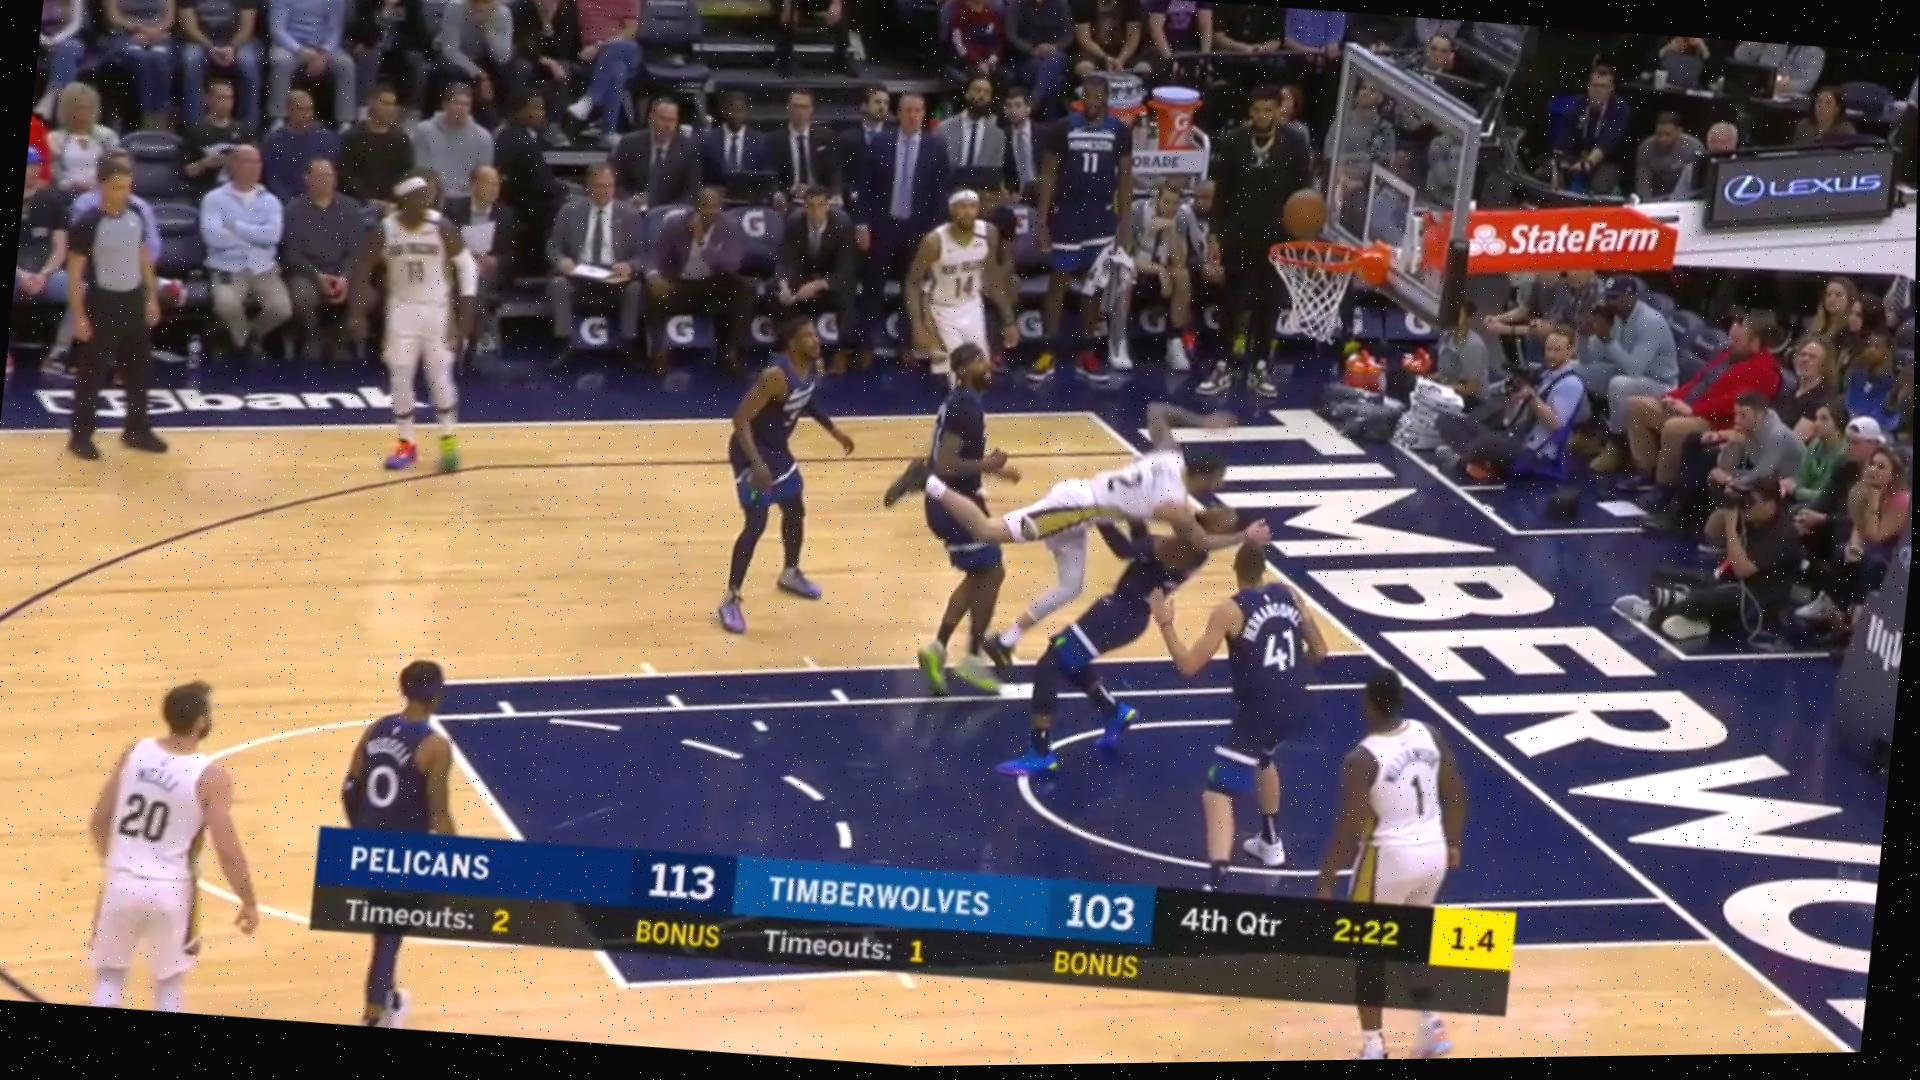foul: (1036, 405, 1232, 754)
